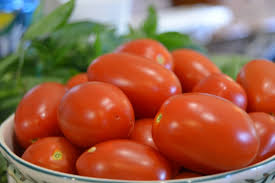tomato: (160, 95, 261, 172), (64, 82, 142, 152)
